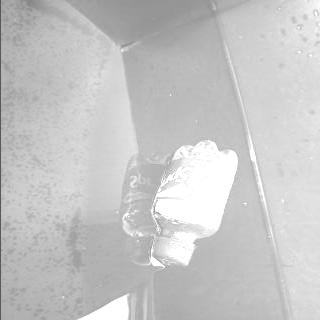bottle: (148, 138, 238, 268)
